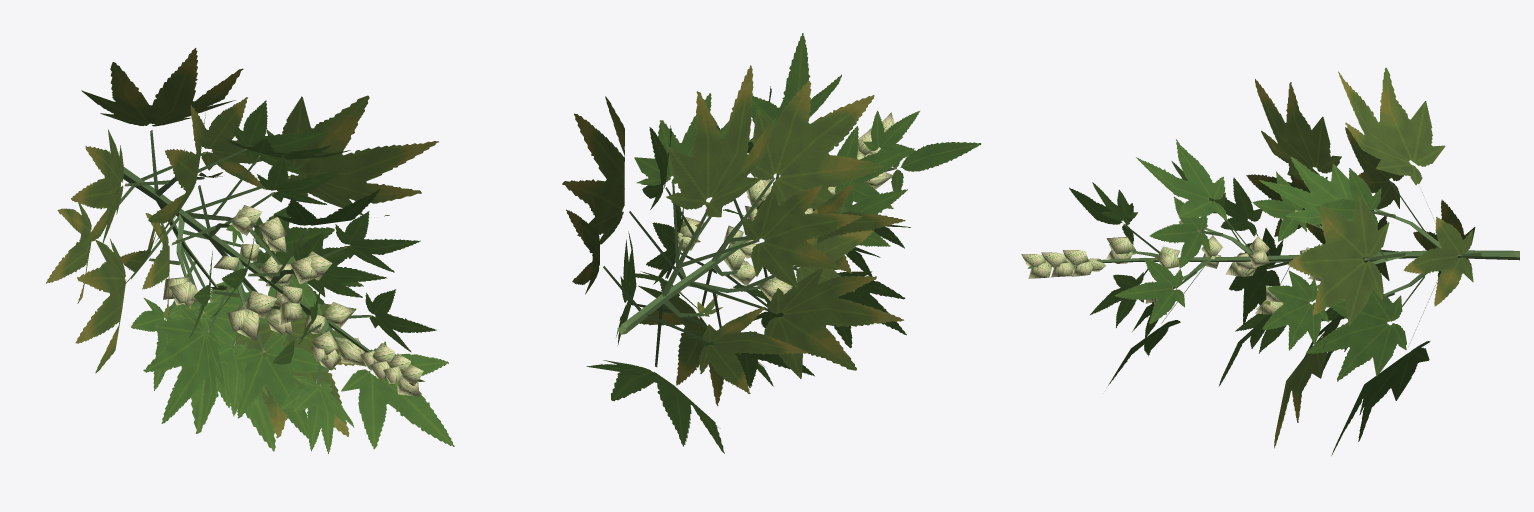
File: p_male_hybrid_ripe_c0_cards.obj
3 renders of one model, left to right at view 1: azimuth 30°, elevation 25°; view 2: azimuth 150°, elevation 25°; view 3: azimuth 270°, elevation 25°, orthographic. The views are drawn at different scales.
Bounding box in the file's own units: 1.47 × 1.59 × 1.74.
1 material, 1 textured.
